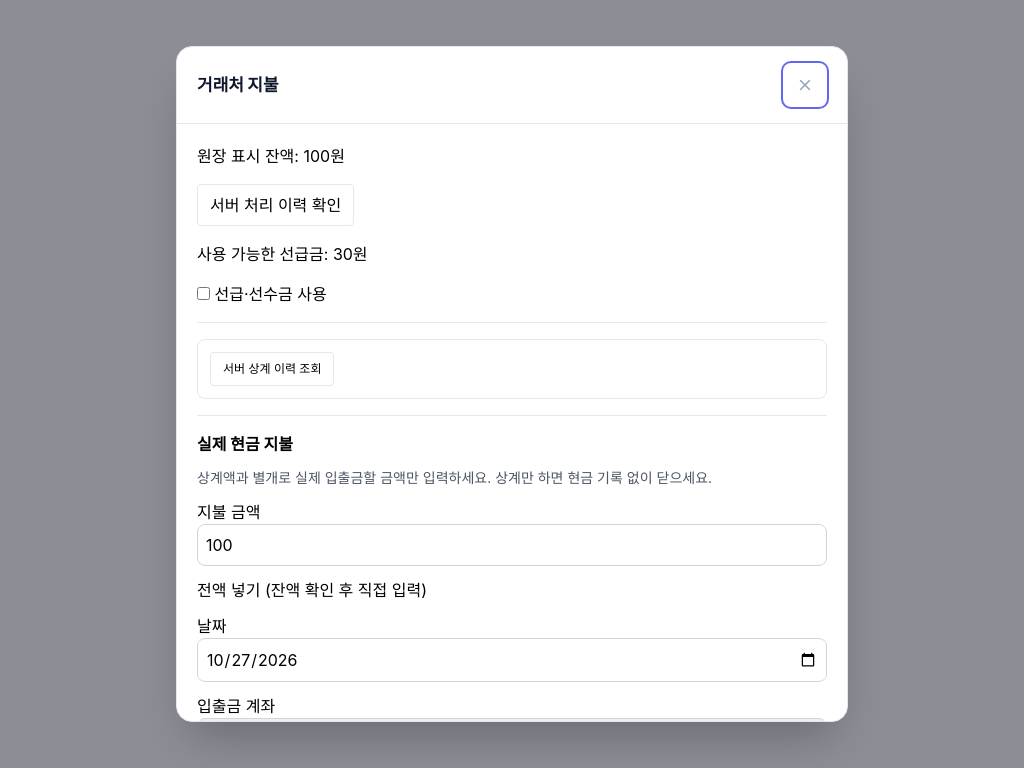
Test: 상계취소unknown은30/70계획과원문을유지하고현금차단
Step 1. Click the checkbox labelled "선급·선수금 사용" → {"x": 204, "y": 294}, box x1=197 y1=287 x2=210 y2=300
(page scrolled)
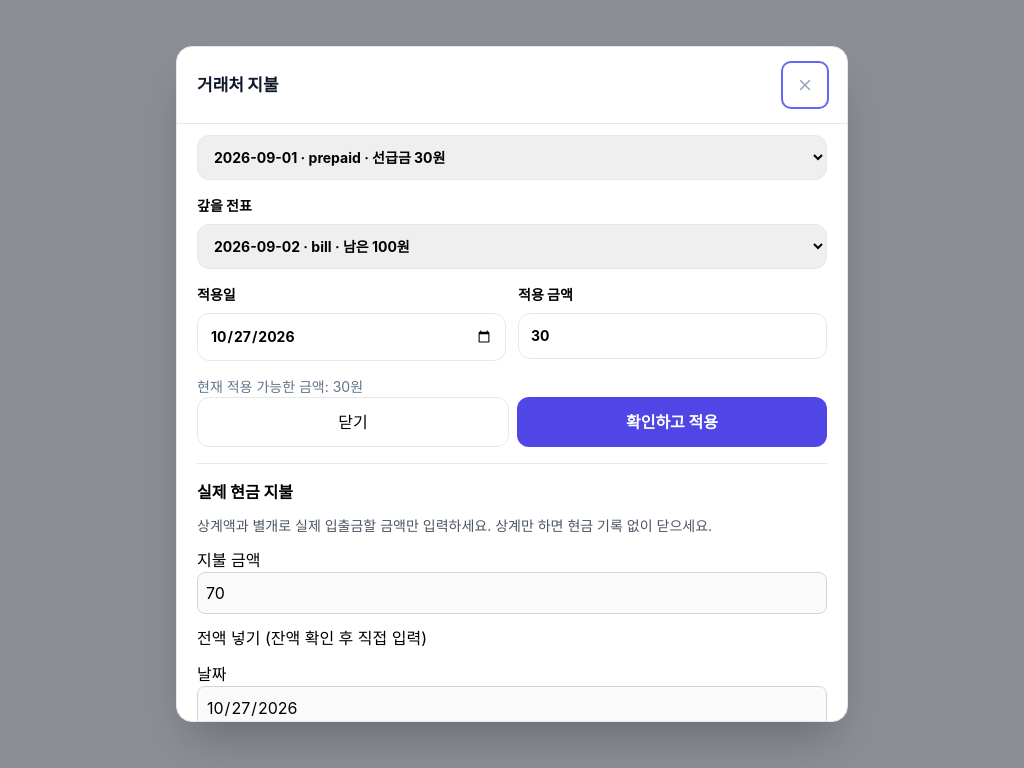
Step 2. Click the button "확인하고 적용" → {"x": 672, "y": 422}, box x1=517 y1=397 x2=827 y2=447
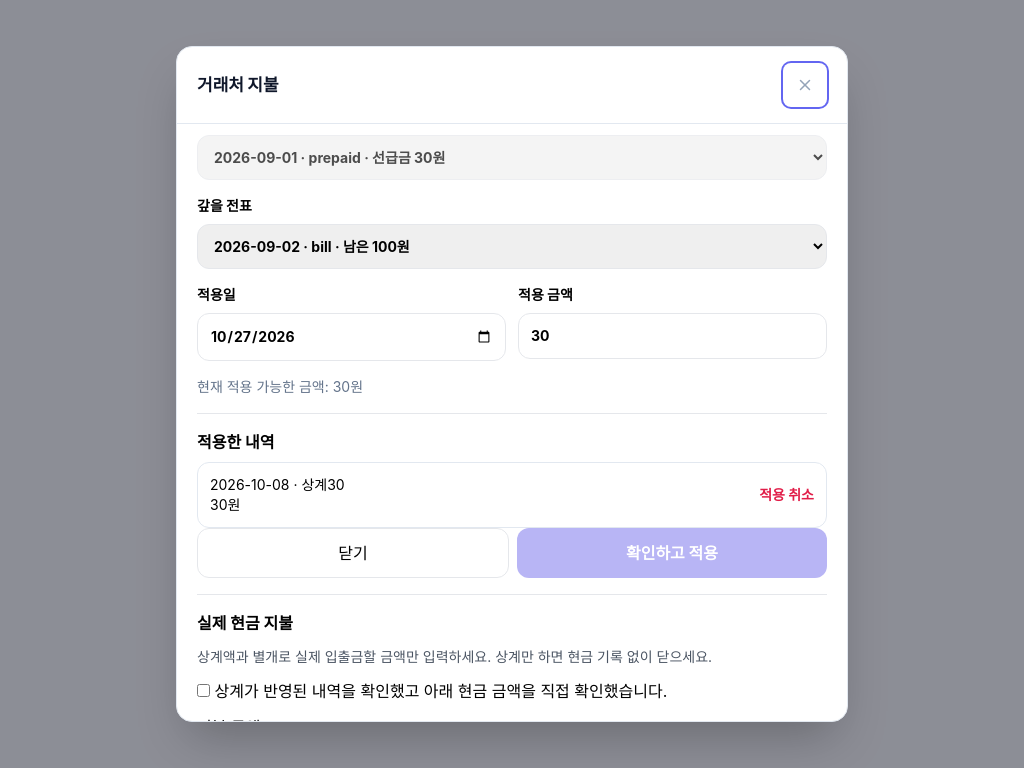
Now the checkbox labelled "상계가 반영된 내역을 확인했고 아래 현금 금액을 직접 확인했습니다." is shown, box x1=197 y1=684 x2=210 y2=697
Step 3. Click the button "적용 취소" → {"x": 787, "y": 495}, box x1=759 y1=485 x2=814 y2=505
(page scrolled)
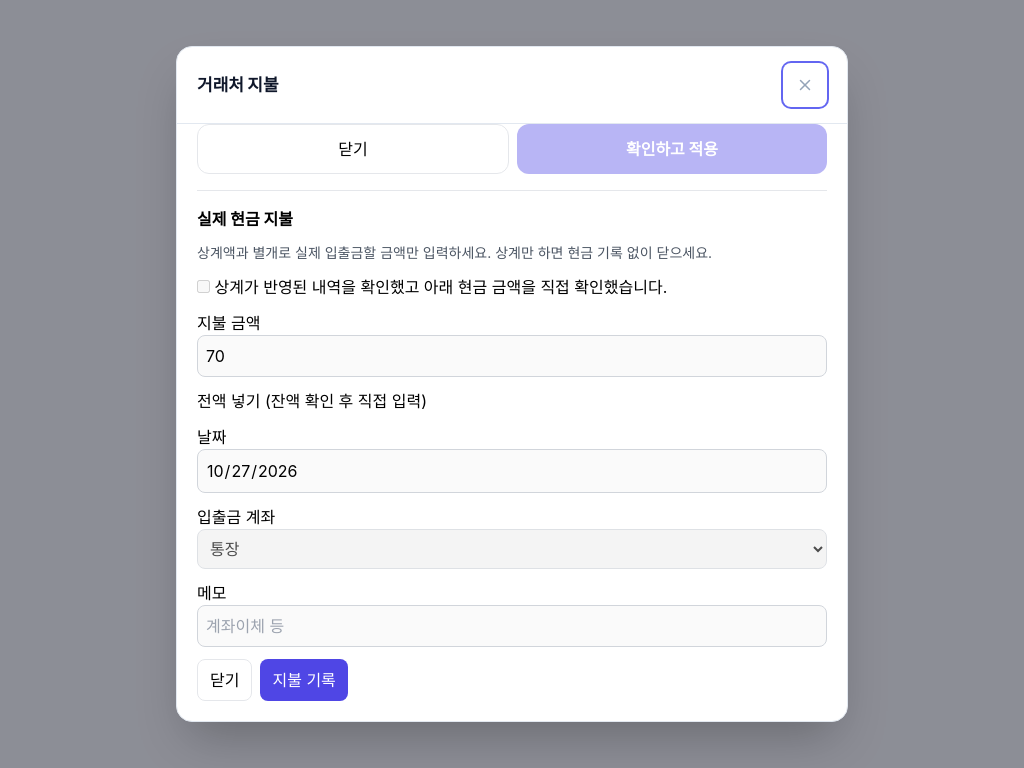
Now the field labelled "지불 금액" holds "70", box x1=197 y1=335 x2=827 y2=377
Now the button "지불 기록" is disabled, box x1=260 y1=659 x2=348 y2=701
